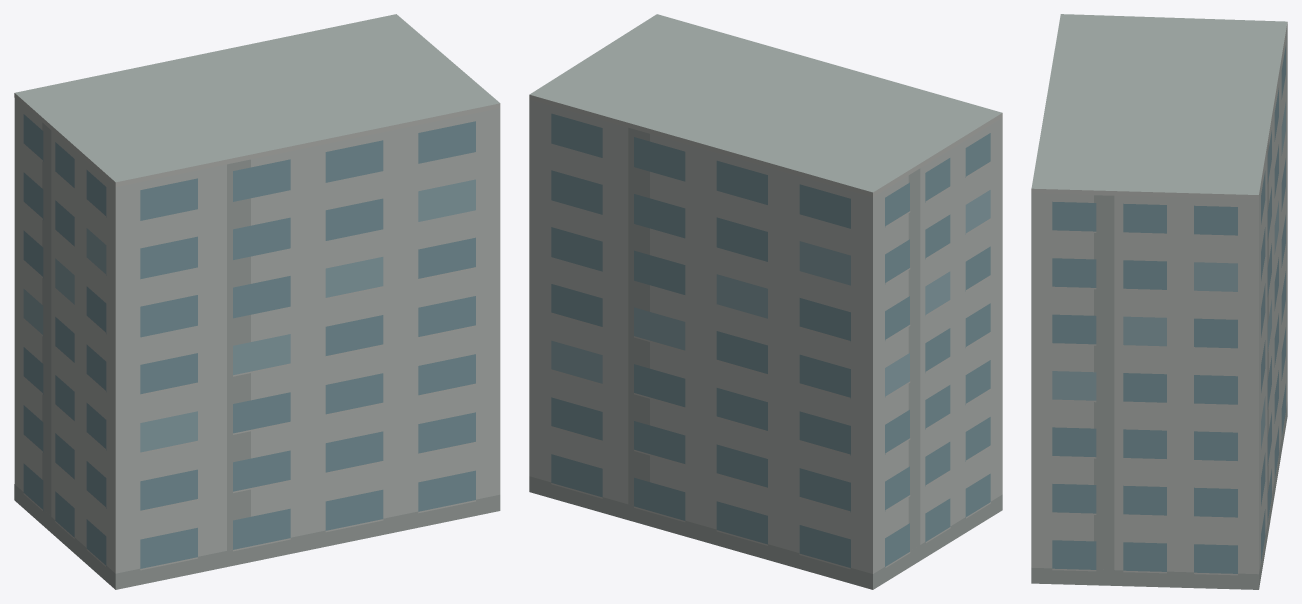
Rendered from survey-upis-32877731.glb.
3 renders of one model, left to right at view 1: azimuth 30°, elevation 25°; view 2: azimuth 150°, elevation 25°; view 3: azimuth 270°, elevation 25°, orthographic. The views are drawn at different scales.
Visible parts, largest first — view 1: survey-upis-32877731.tmp; view 2: survey-upis-32877731.tmp; view 3: survey-upis-32877731.tmp.
Part boxes in pixels (<box>): survey-upis-32877731.tmp: <box>14,14,500,589</box>; survey-upis-32877731.tmp: <box>529,14,1002,589</box>; survey-upis-32877731.tmp: <box>1031,14,1287,589</box>.
Bounding box in the file's own units: 19.88 × 20.2 × 11.89.
